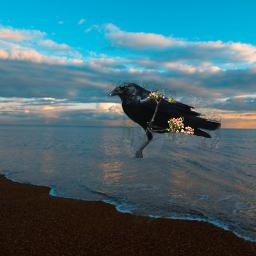Crow: (105, 80, 221, 158)
